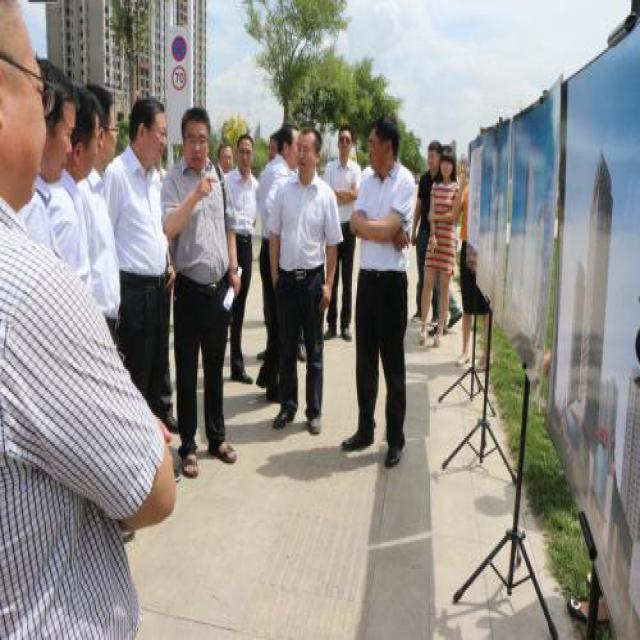head: (73, 74, 110, 182), (39, 70, 73, 174), (128, 93, 167, 168), (179, 101, 213, 172), (365, 113, 399, 172), (297, 124, 325, 186), (279, 118, 299, 174), (215, 136, 234, 184), (335, 121, 353, 165), (235, 128, 252, 174), (425, 132, 441, 178), (439, 145, 457, 184)
person: (163, 101, 252, 479), (109, 94, 185, 423), (348, 117, 415, 485), (267, 121, 344, 441), (417, 133, 469, 357), (222, 133, 259, 399)
